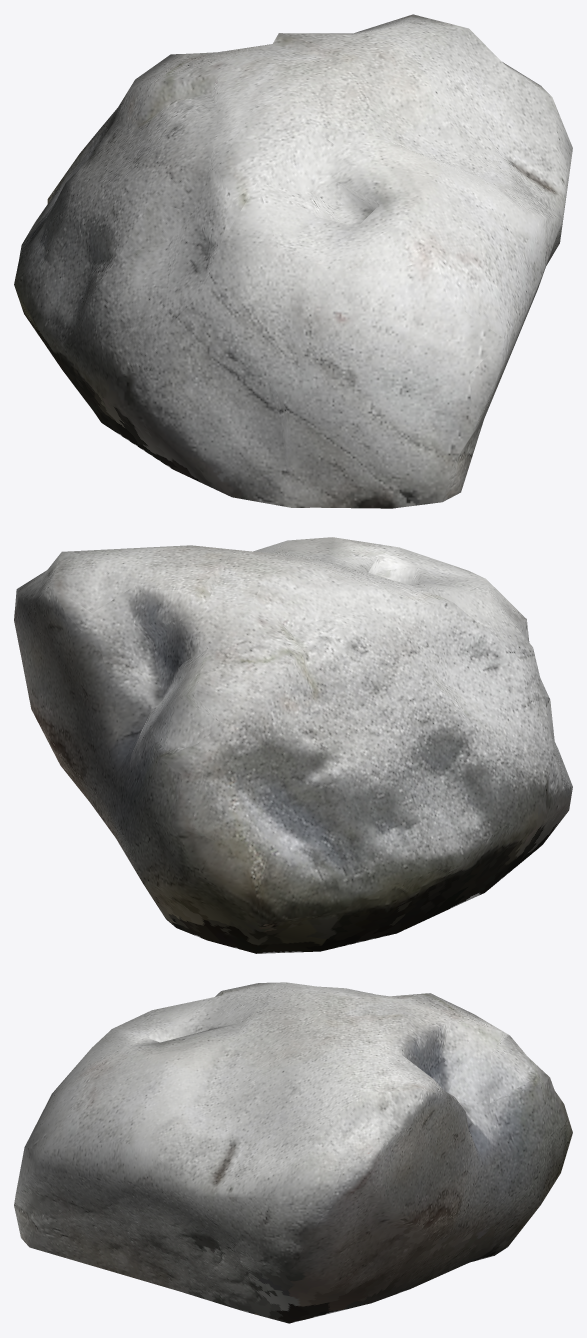
3 views of the same model, one above another, from view 1: azimuth 30°, elevation 25°; view 2: azimuth 150°, elevation 25°; view 3: azimuth 270°, elevation 25° (orthographic). The views are drawn at different scales.
Parts seen in each view (by area): view 1: rock_low_rock_inffeld.005; view 2: rock_low_rock_inffeld.005; view 3: rock_low_rock_inffeld.005.
Boxes of the visible parts, box(x1,y1,x2,y2) form: rock_low_rock_inffeld.005: box(14, 14, 572, 508); rock_low_rock_inffeld.005: box(14, 537, 572, 953); rock_low_rock_inffeld.005: box(14, 982, 572, 1323).
Size of the model in its own units: 967 by 554 by 1111.
Materials: 1 (1 with a texture image).
